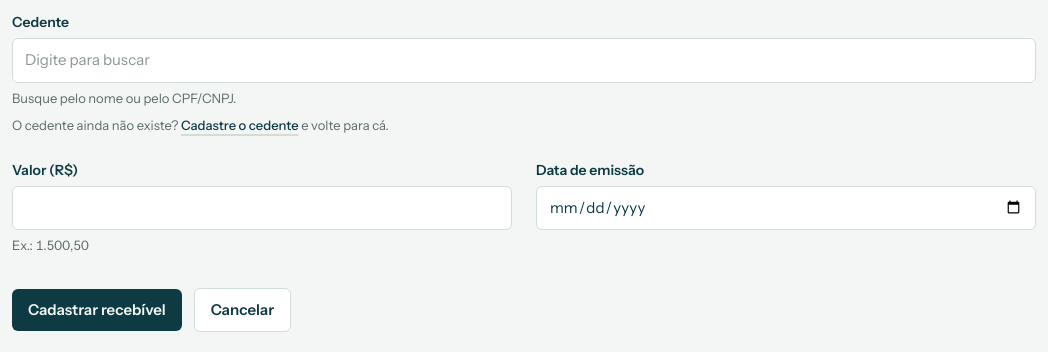
PayableForm › tira o erro do campo assim que a pessoa começa a corrigir
Click the button "Cadastrar recebível".
click(97, 310)  # box [12, 288, 182, 331]
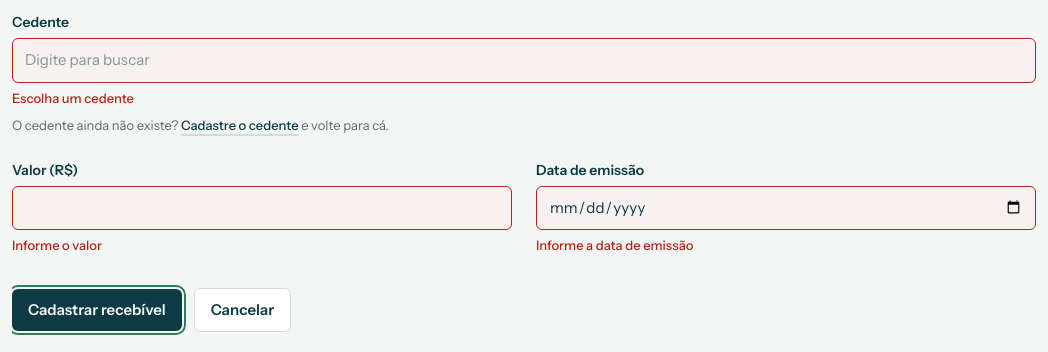
Expected: the text "Informe o valor" is shown, [12, 237, 102, 253]
Type "1" into the field labelled "Valor (R$)".
click(262, 208); type("1")  # box [12, 186, 512, 230]
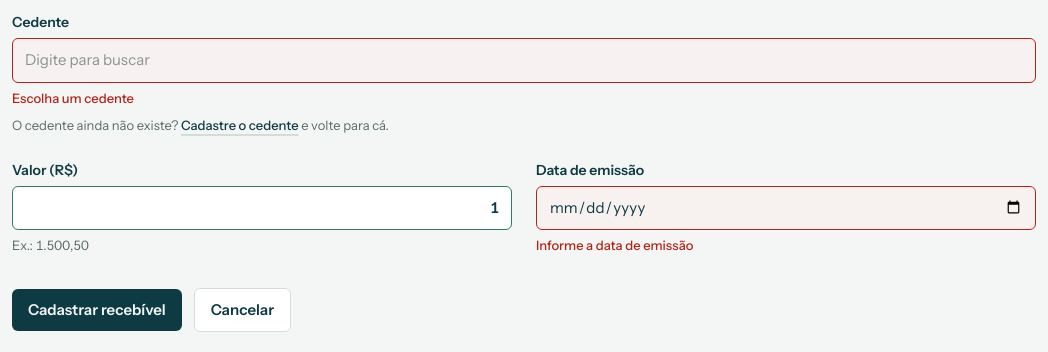
Expected: the text "Informe a data de emissão" is shown, [536, 237, 693, 253]
Expected: the text "Informe o valor" is gone
